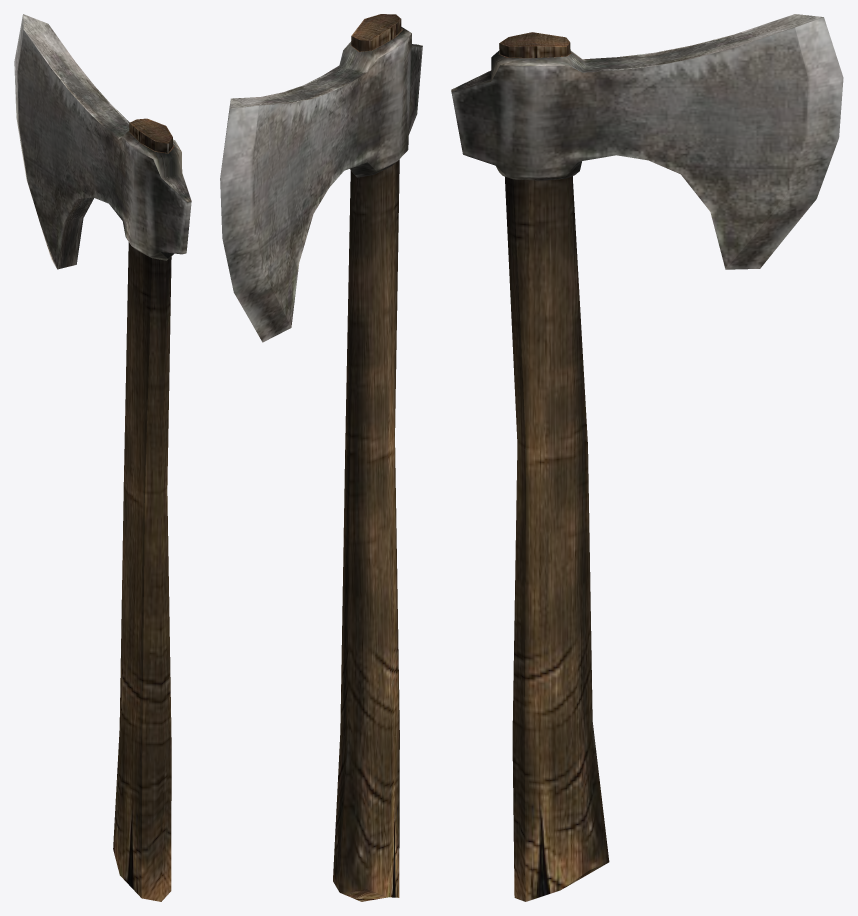
File: weapons_axe01.glb
The picture shows the model from 3 angles, left to right: view 1: azimuth 30°, elevation 25°; view 2: azimuth 150°, elevation 25°; view 3: azimuth 270°, elevation 25°; orthographic projection. The views are drawn at different scales.
Parts seen in each view (by area): view 1: axe01; view 2: axe01; view 3: axe01.
Boxes of the visible parts, x1,y1,x2,y2 form: axe01: [14, 14, 191, 901]; axe01: [220, 14, 422, 901]; axe01: [451, 14, 843, 901].
Bounding box in the file's own units: 0.0453 × 0.8062 × 0.3253.
1 material, 1 textured.
